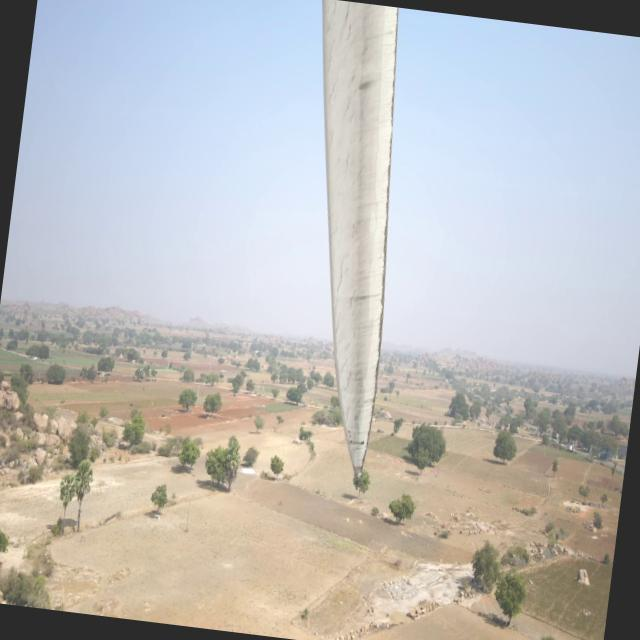Dirt: (337, 0, 392, 472)
Pin Hole: (354, 78, 368, 90)
